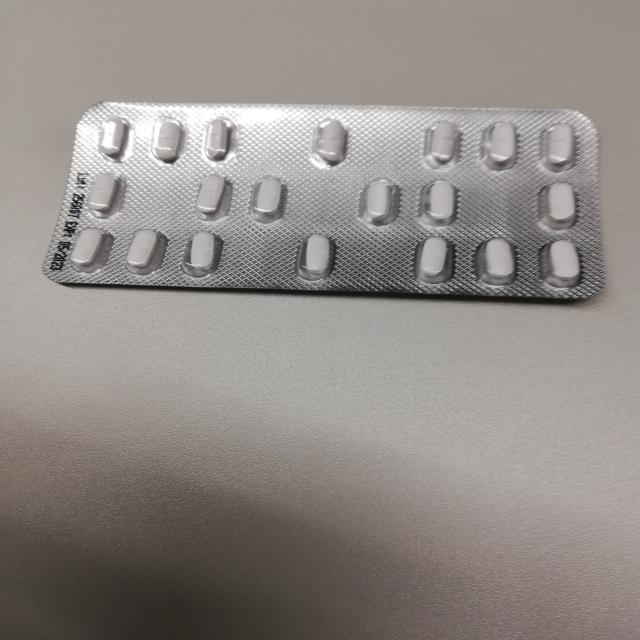Pill: (467, 230, 522, 289), (182, 169, 242, 221), (116, 222, 168, 281), (354, 172, 407, 229), (176, 227, 233, 280), (535, 236, 589, 290), (540, 176, 592, 232), (413, 114, 463, 172), (294, 231, 344, 286), (63, 225, 115, 276), (142, 113, 190, 168), (535, 122, 587, 172), (411, 231, 458, 286), (194, 114, 244, 165), (416, 175, 464, 228), (309, 116, 354, 170), (78, 168, 124, 220), (478, 116, 518, 172), (248, 171, 291, 222), (93, 111, 133, 163)
